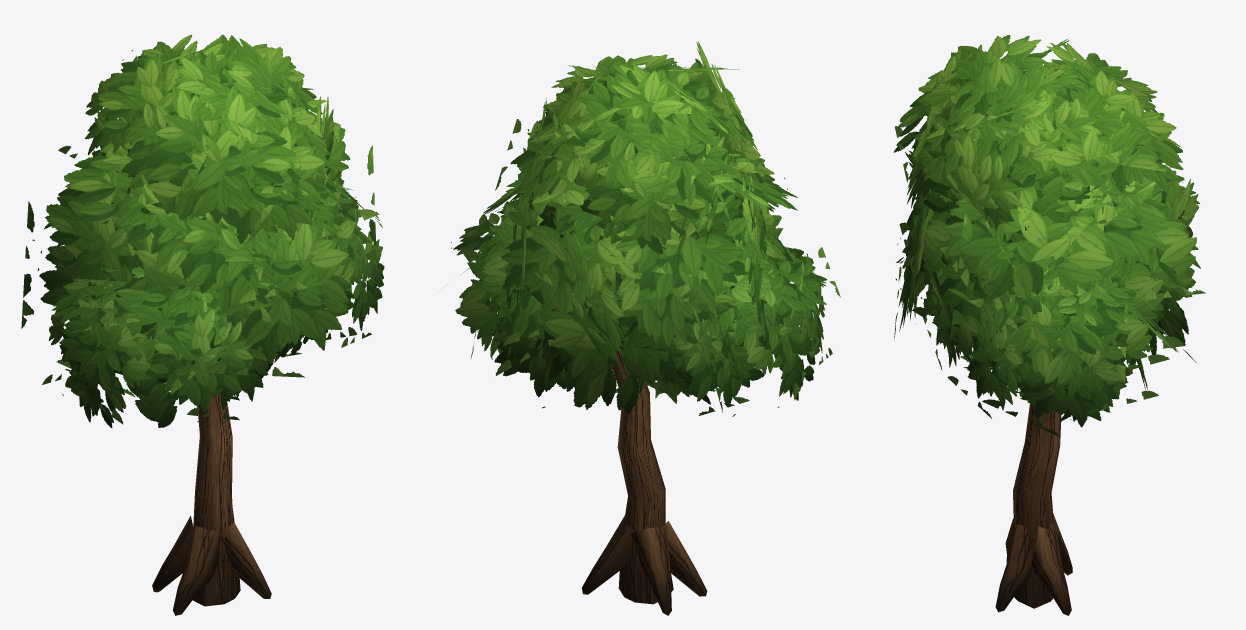
The model's file is tree_green_b.glb.
The picture shows the model from 3 angles, left to right: view 1: azimuth 30°, elevation 25°; view 2: azimuth 150°, elevation 25°; view 3: azimuth 270°, elevation 25°; orthographic projection. The views are drawn at different scales.
Visible parts, largest first — view 1: tree_green_b; view 2: tree_green_b; view 3: tree_green_b.
Boxes of the visible parts, <box> form: tree_green_b: <box>21,34,384,615</box>; tree_green_b: <box>451,41,840,615</box>; tree_green_b: <box>893,35,1205,615</box>.
Bounding box in the file's own units: 3.27 × 4.74 × 2.7.
Materials: 2 (2 with a texture image).
